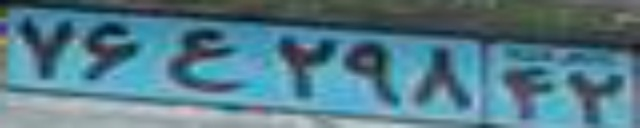2: (276, 35, 335, 99), (560, 68, 625, 124)
4: (499, 64, 553, 119)
6: (78, 24, 143, 81)
7: (14, 17, 73, 80)
8: (408, 45, 471, 108)
9: (339, 40, 398, 105)
ain: (162, 28, 243, 93)
